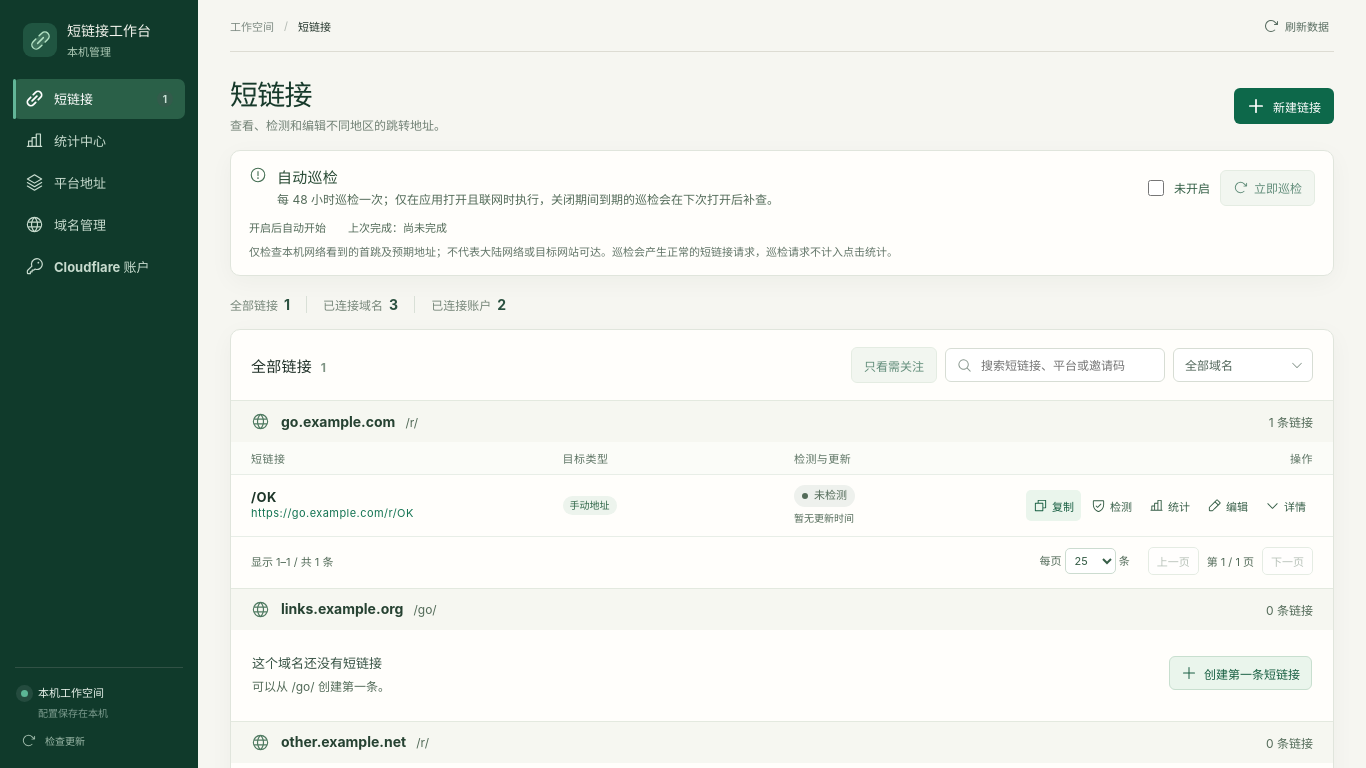
Test: rejects a new case-only collision with a legacy name without preparing a cloud write
Click the button with aria-label "编辑 OK" at coordinates (1228, 506), box top-left (1200, 490), bottom-right (1255, 521)
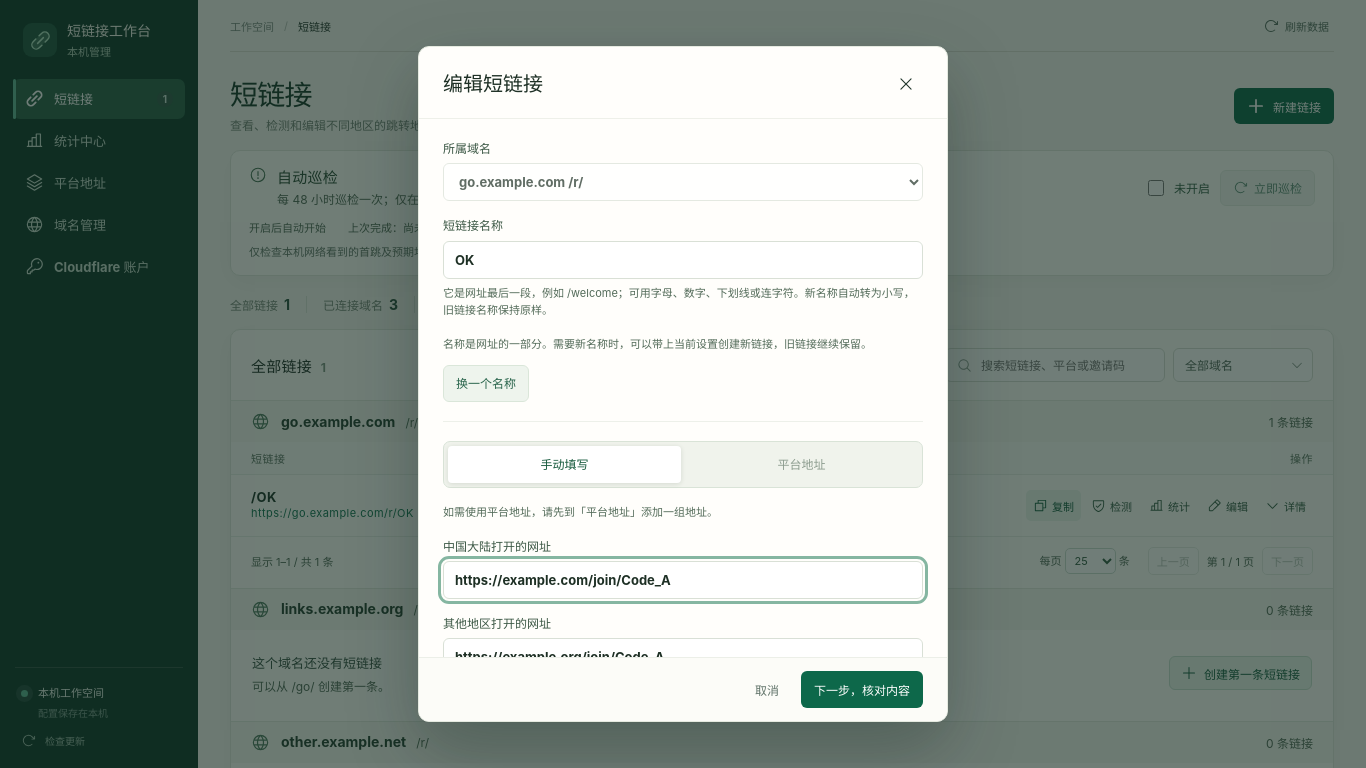
Click the button "换一个名称" at coordinates (486, 383), box top-left (443, 365), bottom-right (529, 402)
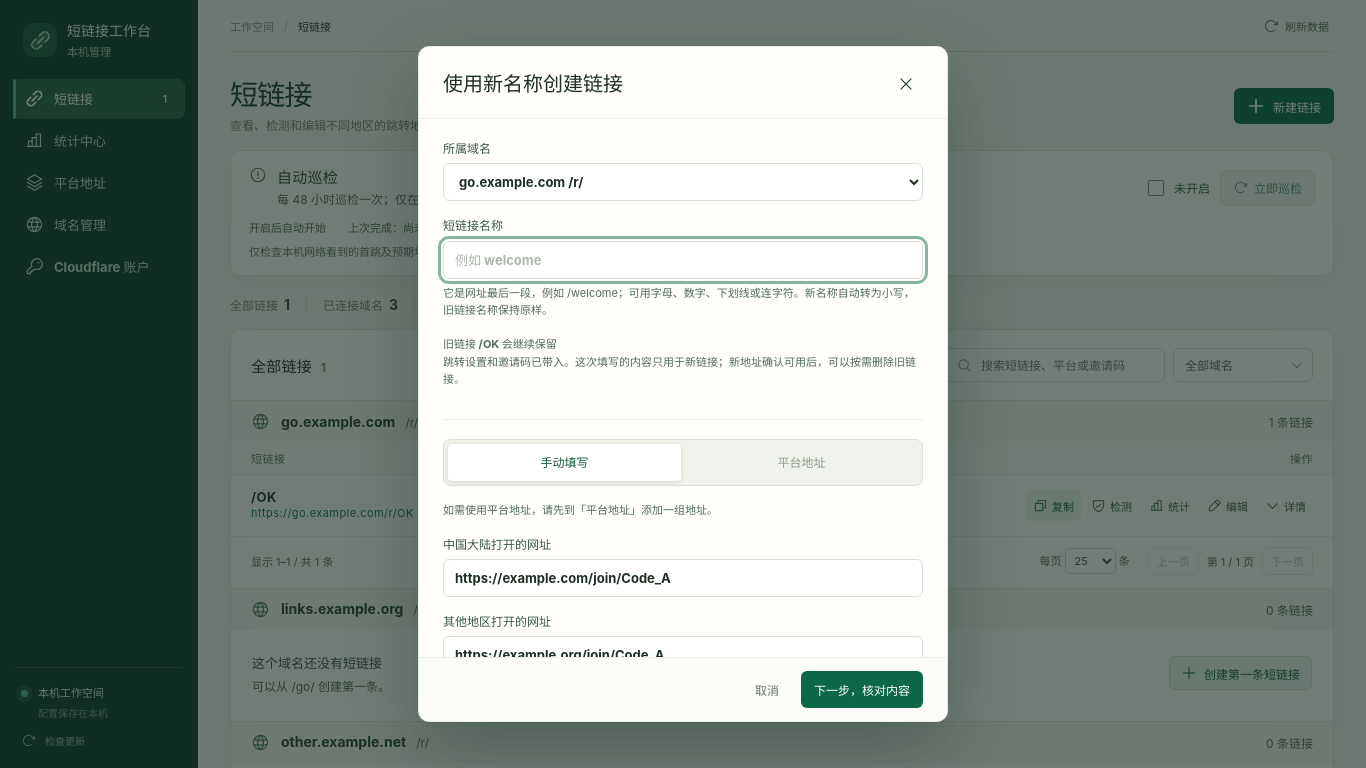
Type "ok" into the field with placeholder "例如 welcome" at coordinates (683, 260), box top-left (443, 241), bottom-right (923, 279)
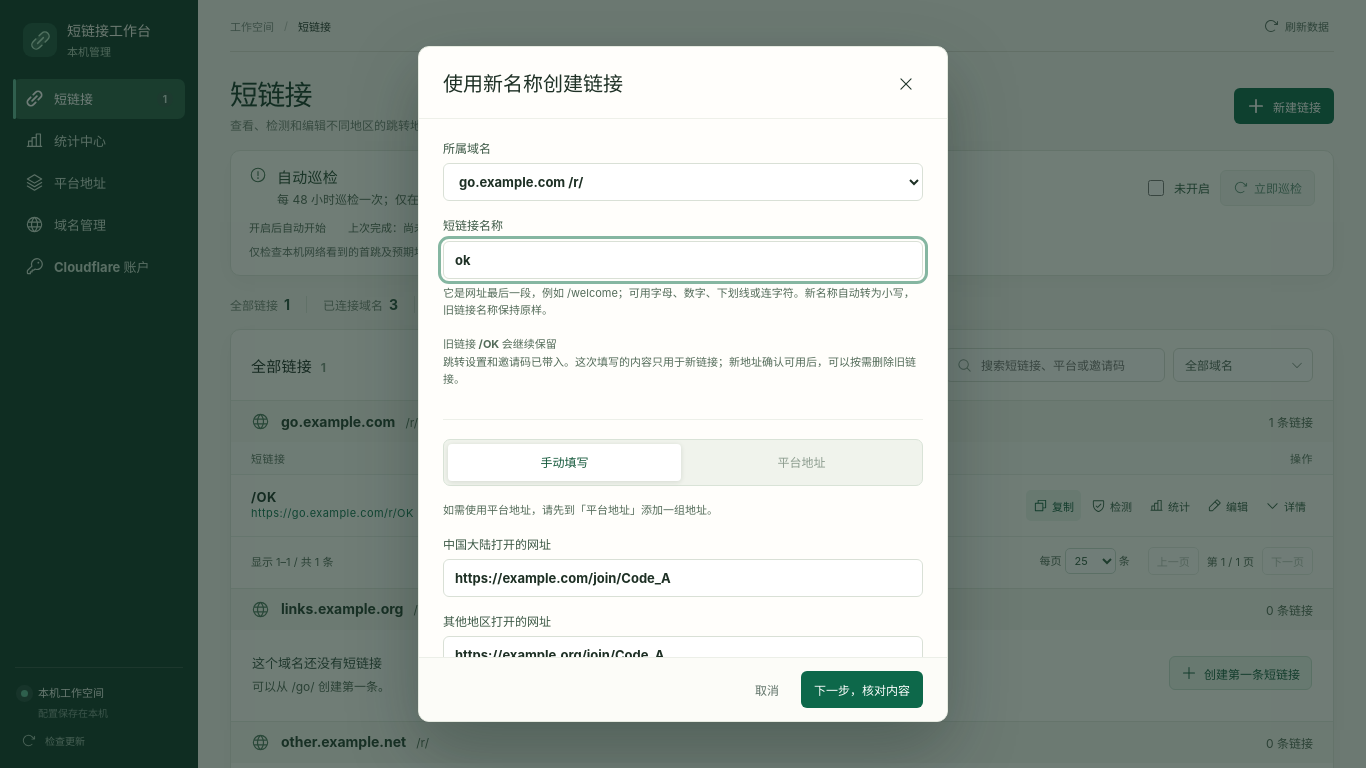
Submit the form, box top-left (443, 140), bottom-right (923, 708)
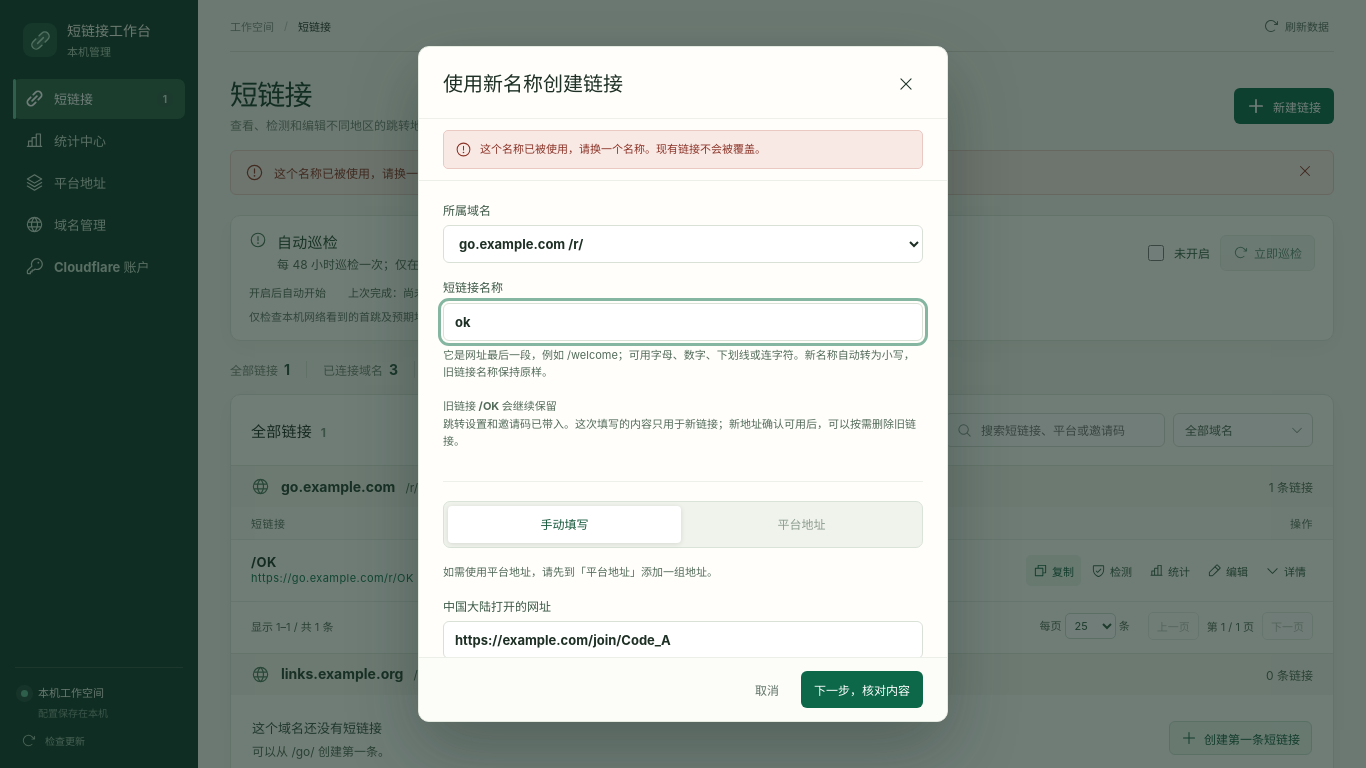
Expected: the message "这个名称已被使用，请换一个名称。现有链接不会被覆盖。" is shown, top-left (443, 130), bottom-right (923, 169)
